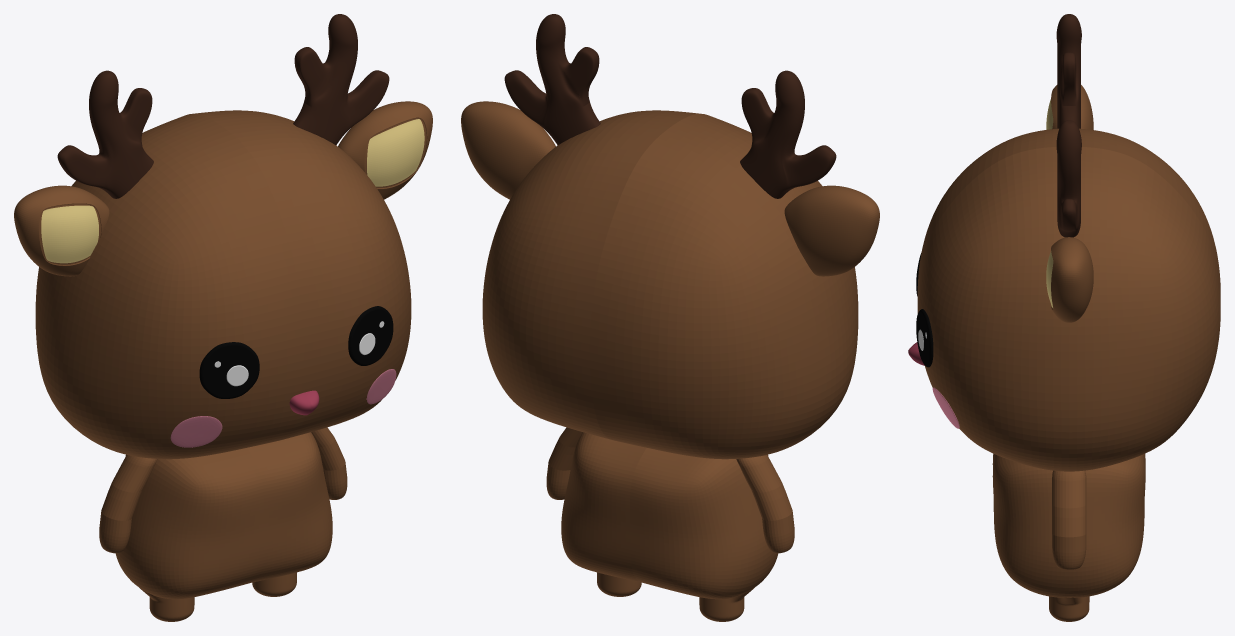
The model's file is 05-19_Deer.glb.
The picture shows the model from 3 angles, left to right: view 1: azimuth 30°, elevation 25°; view 2: azimuth 150°, elevation 25°; view 3: azimuth 270°, elevation 25°; orthographic projection. The views are drawn at different scales.
Parts seen in each view (by area): view 1: Cube, Cube.001, Cylinder.002, Cube.002, Cylinder.001, Plane.002, Plane.001, Cylinder, Plane.003, Cube.005; view 2: Cube, Cube.001, Cylinder.002, Cube.002, Cylinder.001, Cylinder; view 3: Cube, Cube.001, Cylinder.002, Cube.002, Cylinder.001, Cylinder, Plane.002.
Part boxes in pixels (left/top/right/bottom): Cube: left=35, top=110, right=411, bottom=459; Cube.001: left=115, top=432, right=332, bottom=599; Cylinder.002: left=57, top=14, right=389, bottom=198; Cube.002: left=14, top=101, right=432, bottom=276; Cylinder.001: left=99, top=427, right=347, bottom=553; Plane.002: left=199, top=306, right=393, bottom=398; Plane.001: left=170, top=369, right=396, bottom=447; Cylinder: left=140, top=572, right=296, bottom=621; Plane.003: left=226, top=333, right=375, bottom=386; Cube.005: left=289, top=390, right=319, bottom=415; Cube: left=482, top=110, right=858, bottom=459; Cube.001: left=561, top=432, right=778, bottom=599; Cylinder.002: left=504, top=14, right=836, bottom=198; Cube.002: left=461, top=101, right=879, bottom=276; Cylinder.001: left=546, top=427, right=794, bottom=553; Cylinder: left=597, top=572, right=753, bottom=621; Cube: left=917, top=128, right=1220, bottom=471; Cube.001: left=992, top=453, right=1145, bottom=597; Cylinder.002: left=1056, top=14, right=1081, bottom=237; Cube.002: left=1046, top=85, right=1093, bottom=322; Cylinder.001: left=1052, top=470, right=1086, bottom=569; Cylinder: left=1049, top=596, right=1089, bottom=621; Plane.002: left=916, top=253, right=933, bottom=367.
Size of the model in its own units: 5.71 by 7.38 by 3.98.
